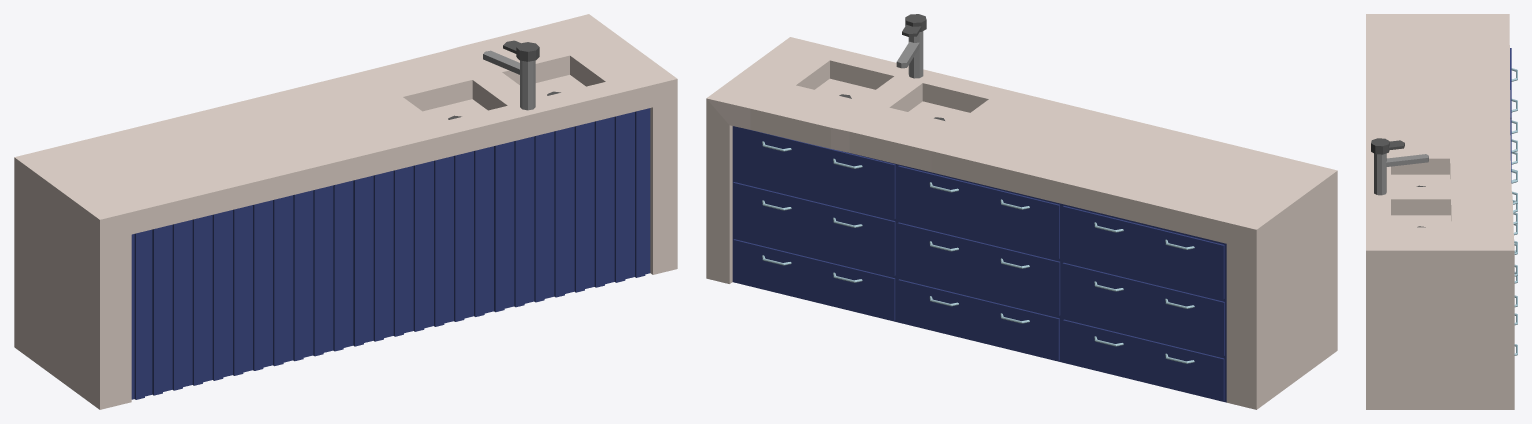
Rendered from Kitchen_set_6.fbx.
3 views of the same model, side by side, from view 1: azimuth 30°, elevation 25°; view 2: azimuth 150°, elevation 25°; view 3: azimuth 270°, elevation 25° (orthographic). The views are drawn at different scales.
Visible parts, largest first — view 1: Kitchen_set_6; view 2: Kitchen_set_6; view 3: Kitchen_set_6.
Part boxes in pixels (x1,y1,x2,y2): Kitchen_set_6: (14,14,677,409); Kitchen_set_6: (706,14,1337,409); Kitchen_set_6: (1366,14,1517,409).
Bounding box in the file's own units: 316 × 85.86 × 131.
